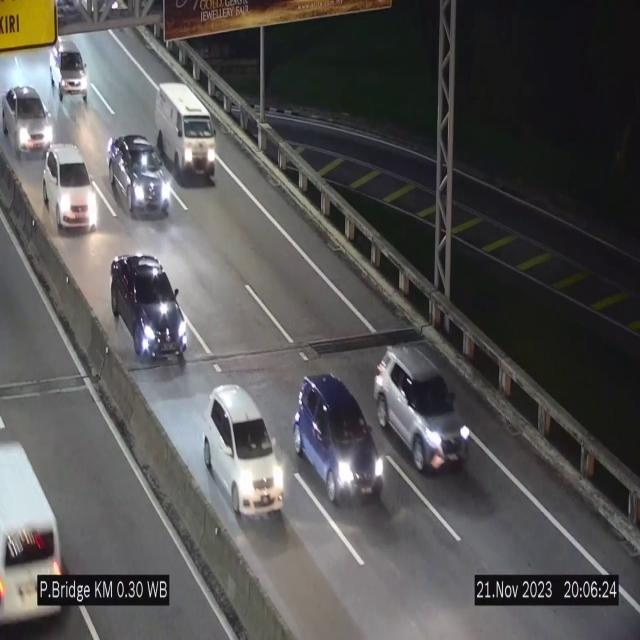Car: (374, 343, 469, 471), (203, 386, 284, 522), (294, 374, 378, 503), (110, 253, 188, 363), (155, 84, 216, 184), (107, 134, 171, 216), (43, 143, 99, 230), (3, 84, 53, 157), (46, 36, 94, 110)
